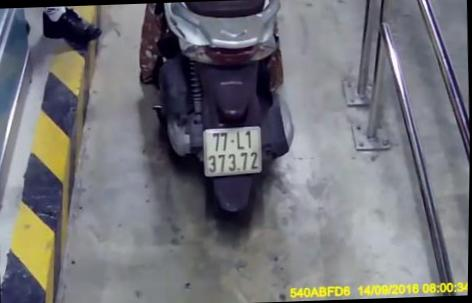LP: (200, 125, 266, 178)
